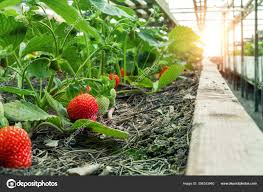ripe: (2, 119, 33, 175), (66, 93, 97, 125), (108, 72, 119, 86)
unripe: (95, 94, 111, 116)
